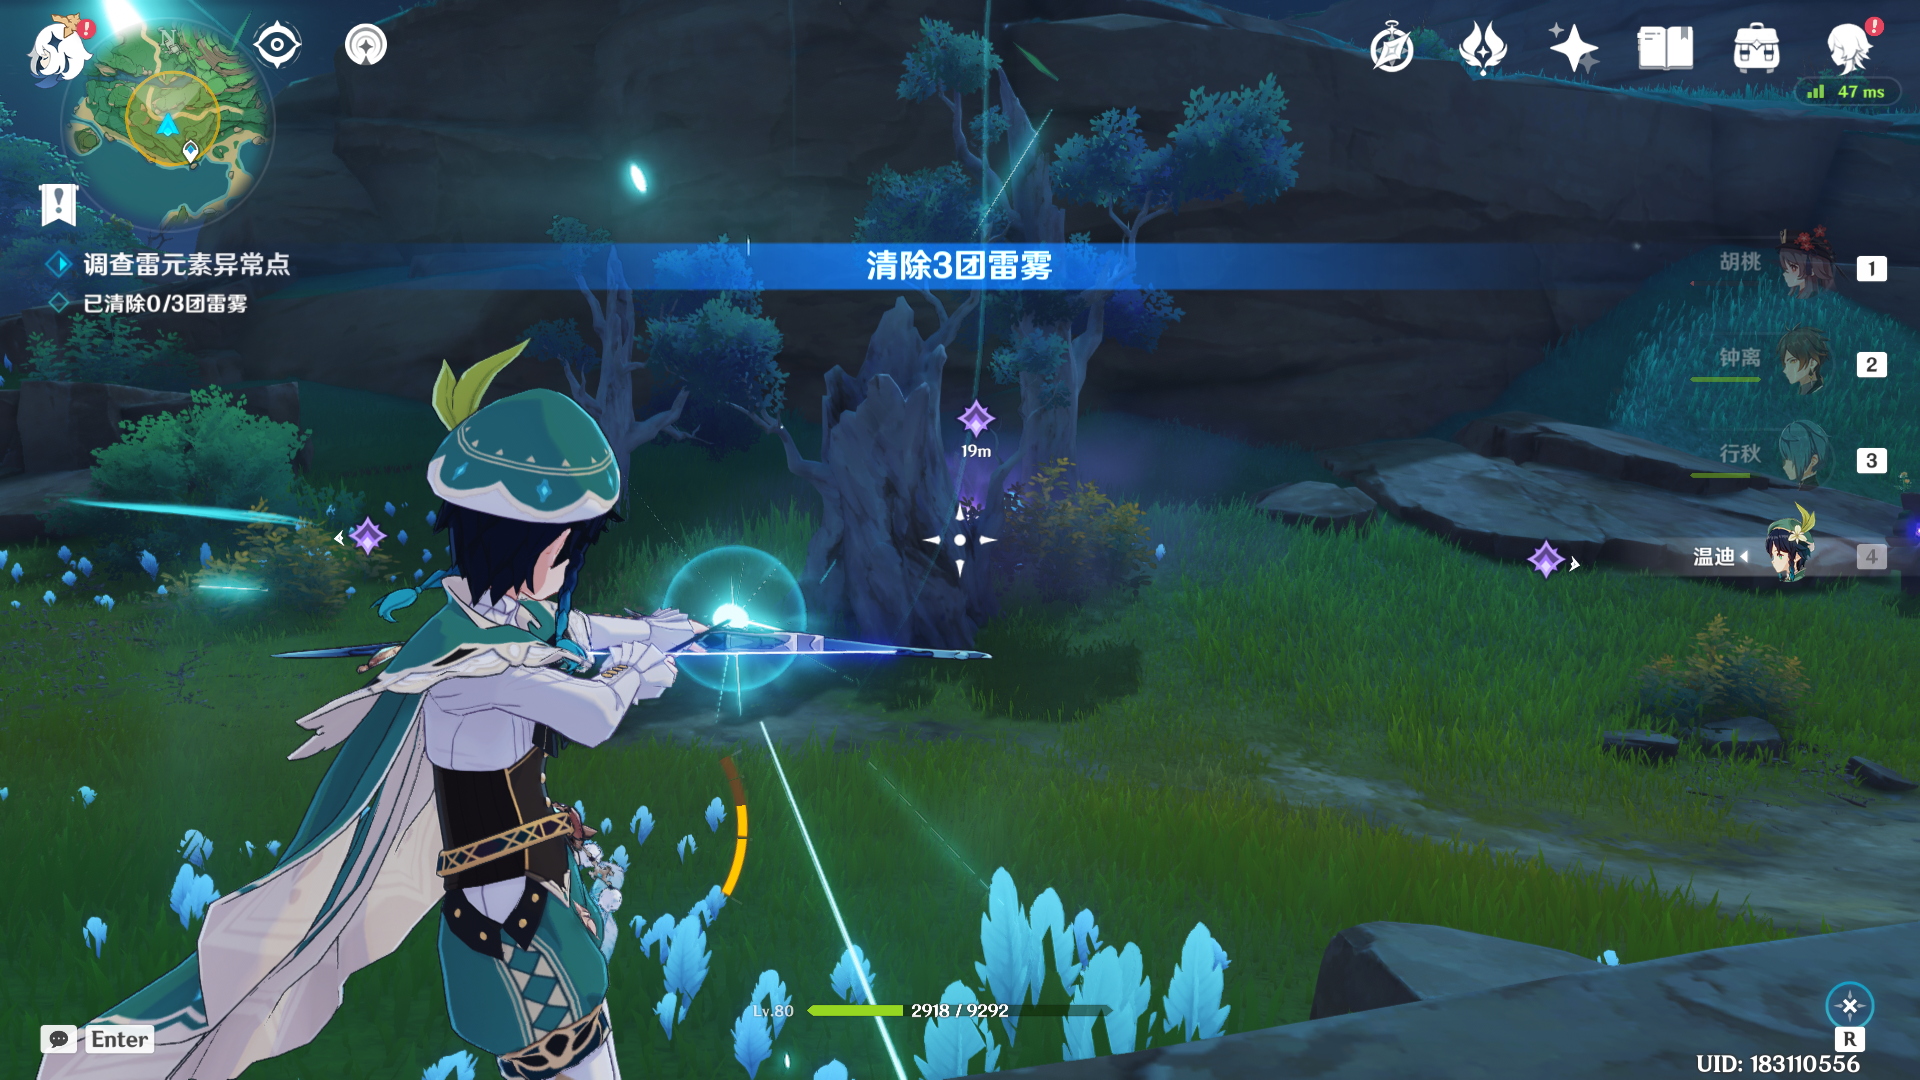character: (214, 353, 758, 1080)
